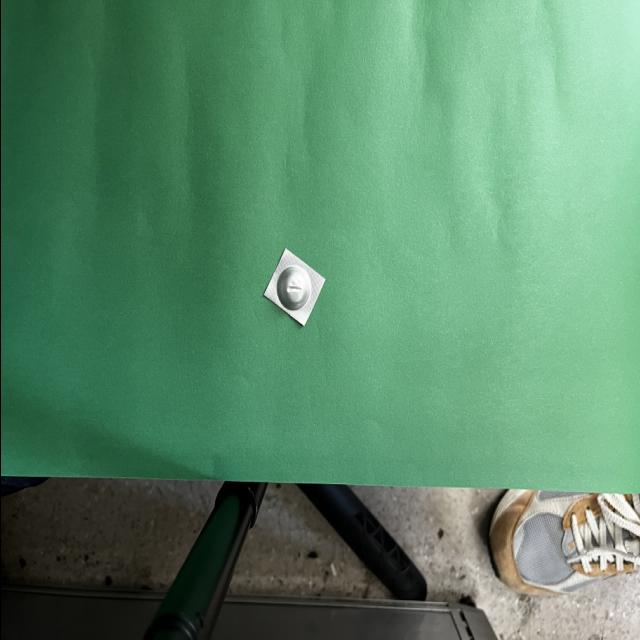Other Objects: (262, 249, 324, 327)
